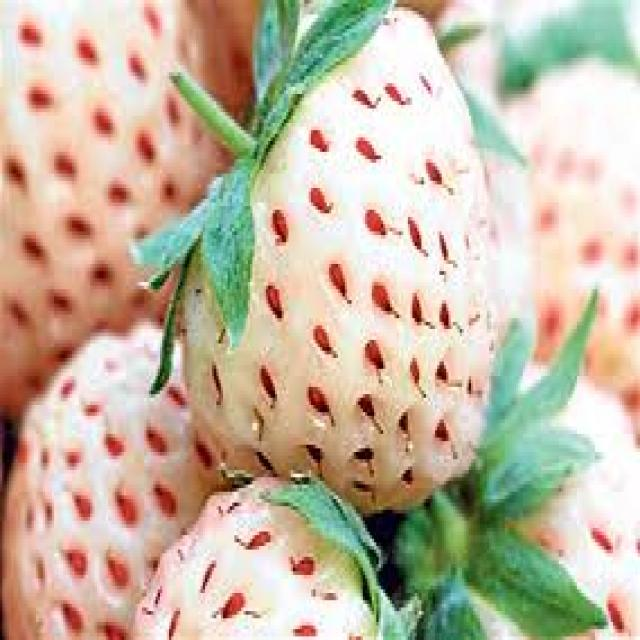organic waste: (156, 0, 498, 503), (0, 0, 264, 412), (0, 314, 241, 636), (399, 369, 638, 636), (484, 36, 638, 387), (122, 481, 412, 636)
